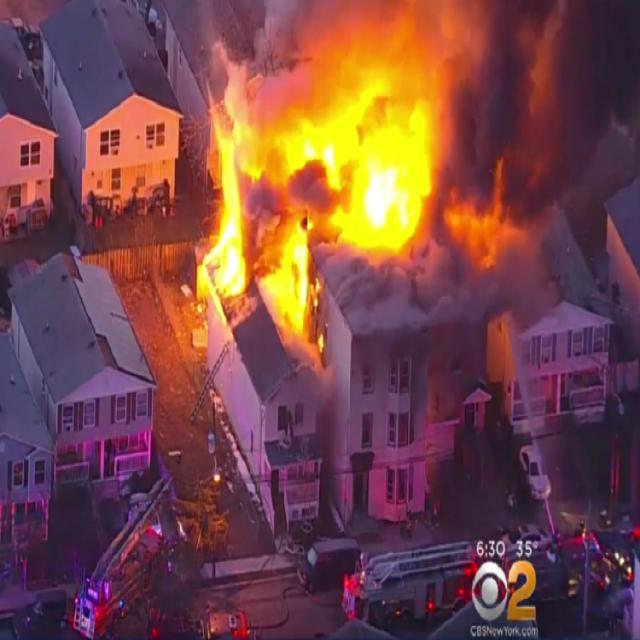Fire: (349, 118, 429, 244), (200, 87, 247, 300), (448, 191, 528, 272), (296, 118, 351, 176), (281, 222, 307, 332), (308, 270, 321, 312), (318, 328, 326, 354)
Smoke: (247, 0, 640, 119), (316, 242, 452, 350), (416, 120, 593, 190), (451, 267, 564, 335), (248, 124, 282, 272), (279, 160, 344, 218), (306, 218, 348, 266)
